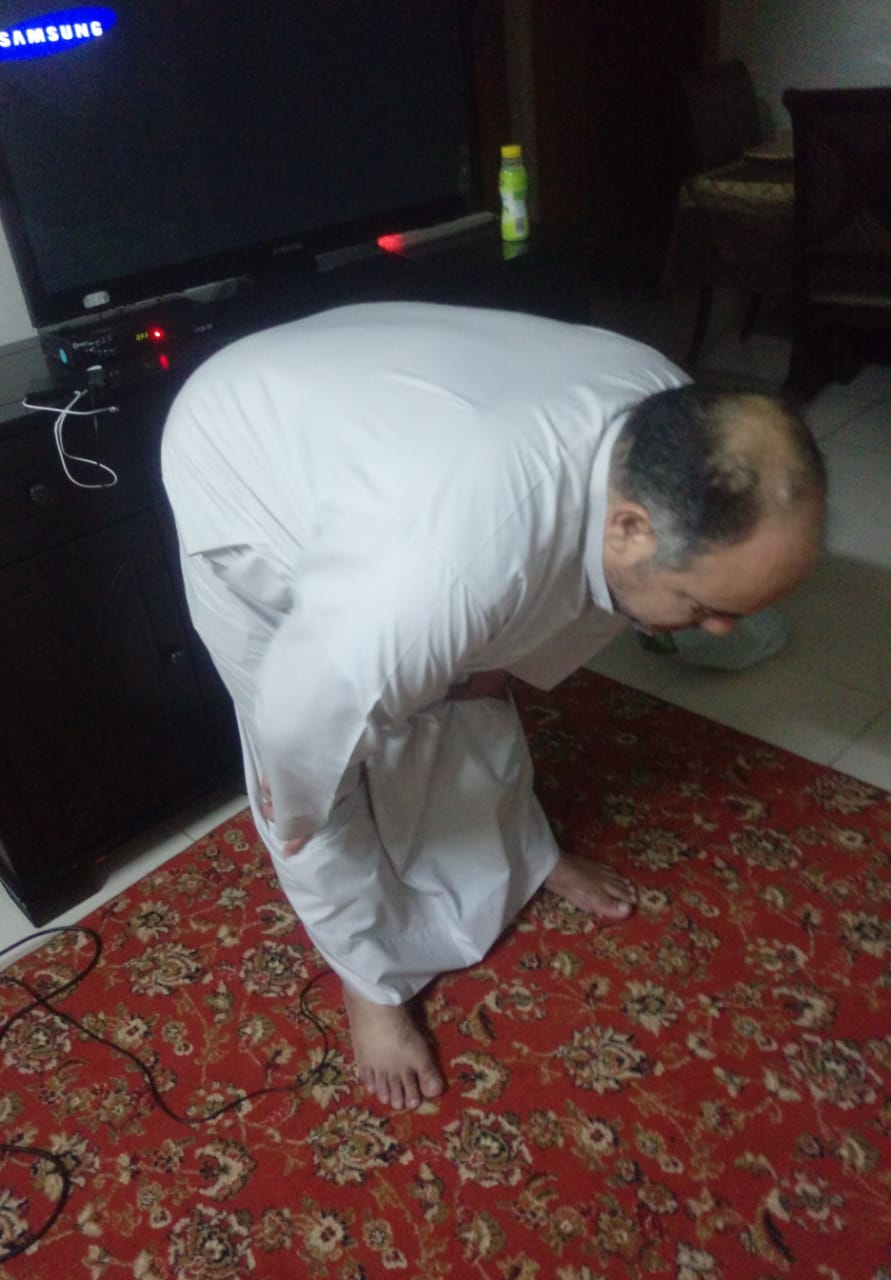ruku: (146, 304, 844, 1148)
